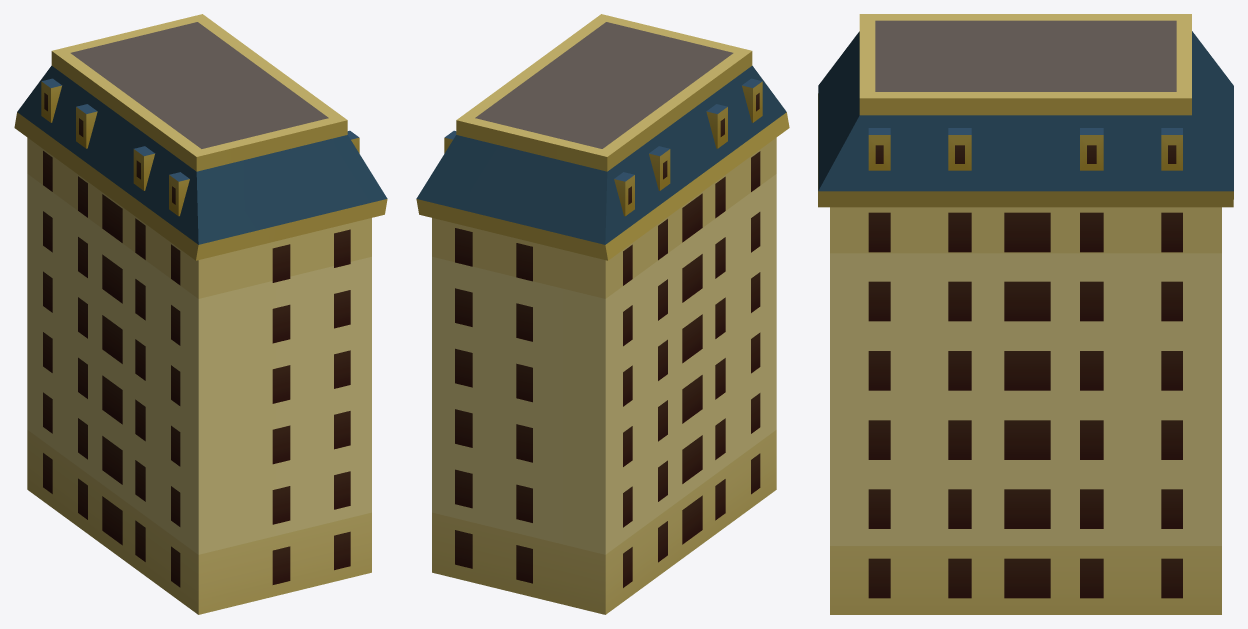
File: SM_City_Building_11.fbx
3 views of the same model, side by side, from view 1: azimuth 30°, elevation 25°; view 2: azimuth 150°, elevation 25°; view 3: azimuth 270°, elevation 25° (orthographic). The views are drawn at different scales.
Visible parts, largest first — view 1: SM_City_Building_11; view 2: SM_City_Building_11; view 3: SM_City_Building_11.
Boxes of the visible parts, left/top/right/bottom form: SM_City_Building_11: left=14, top=14, right=387, bottom=614; SM_City_Building_11: left=416, top=14, right=789, bottom=614; SM_City_Building_11: left=818, top=14, right=1233, bottom=614.
Bounding box in the file's own units: 3.23 × 7.18 × 5.3.
